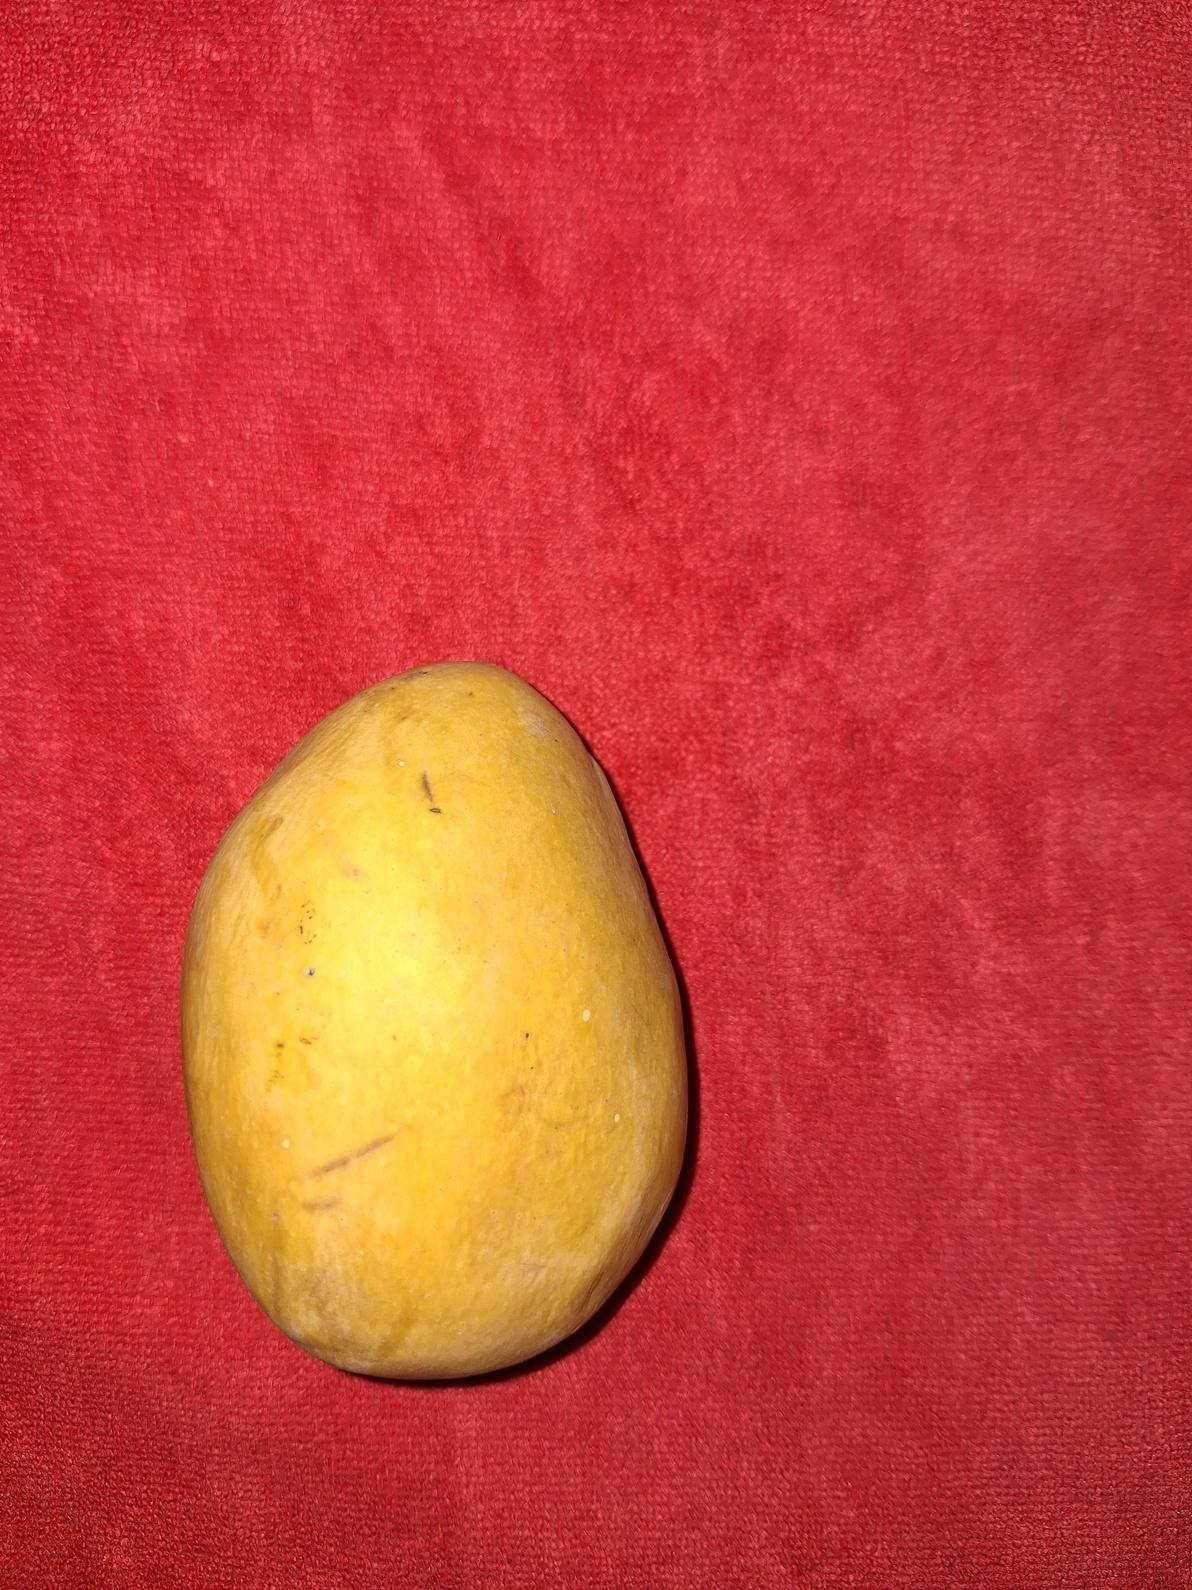mango: (178, 659, 690, 1381)
